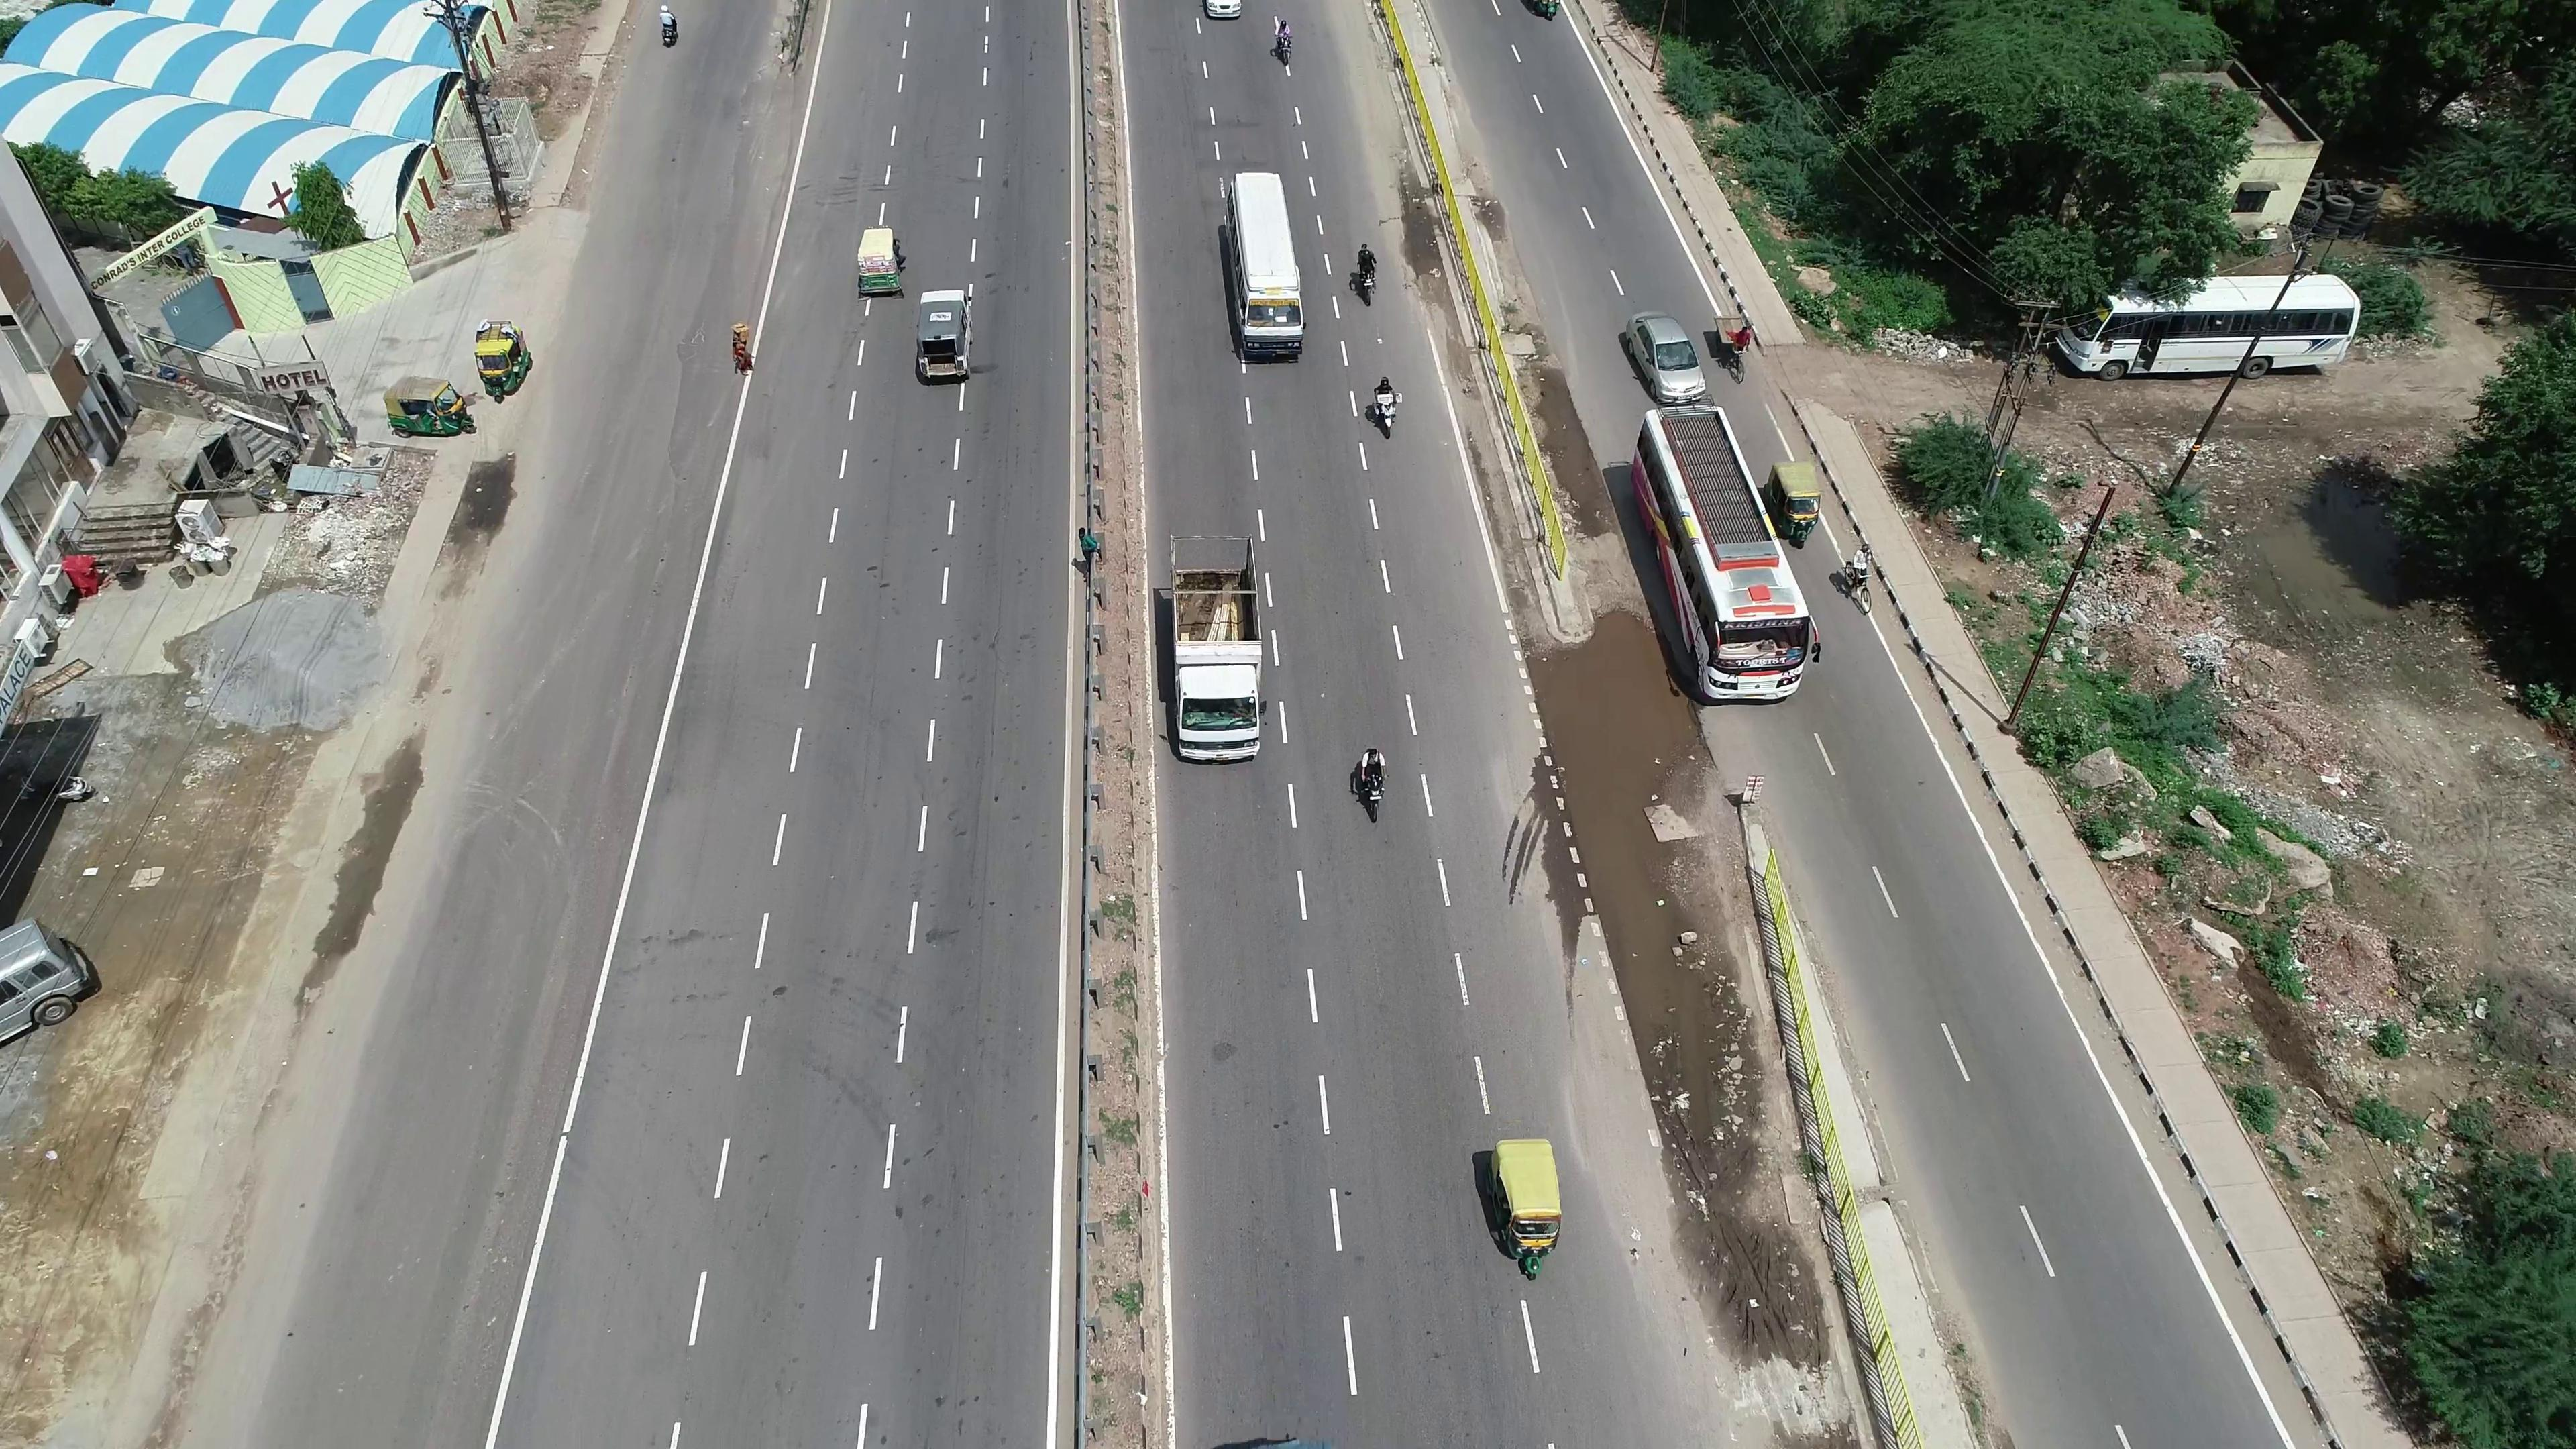Waterlogging: (1504, 635, 1688, 1005)
